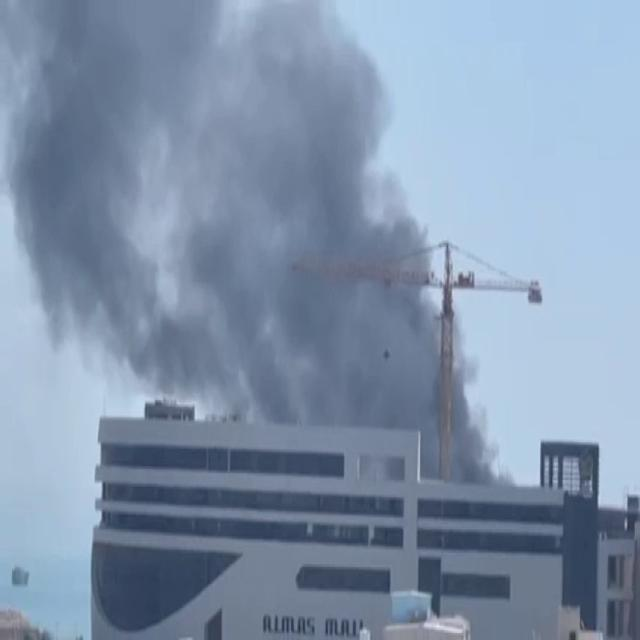Smoke: (18, 6, 434, 408)
